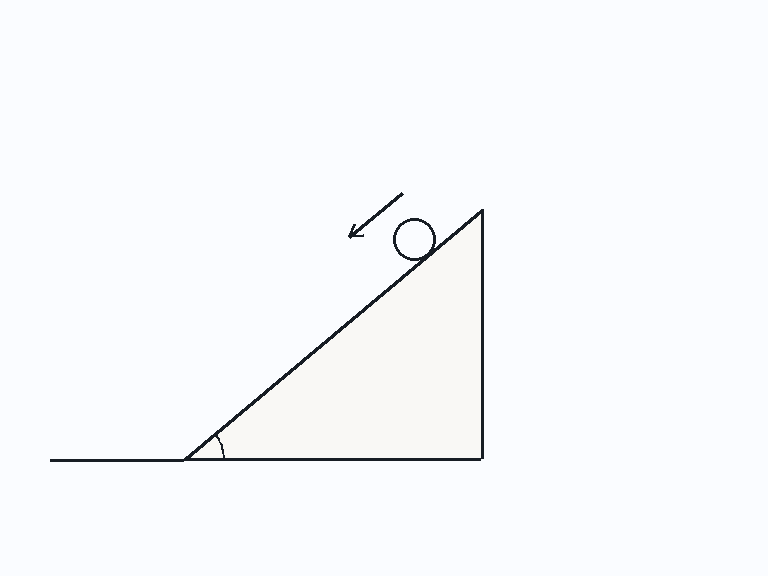ball: (391, 216, 437, 262)
ramp: (182, 208, 483, 461)
